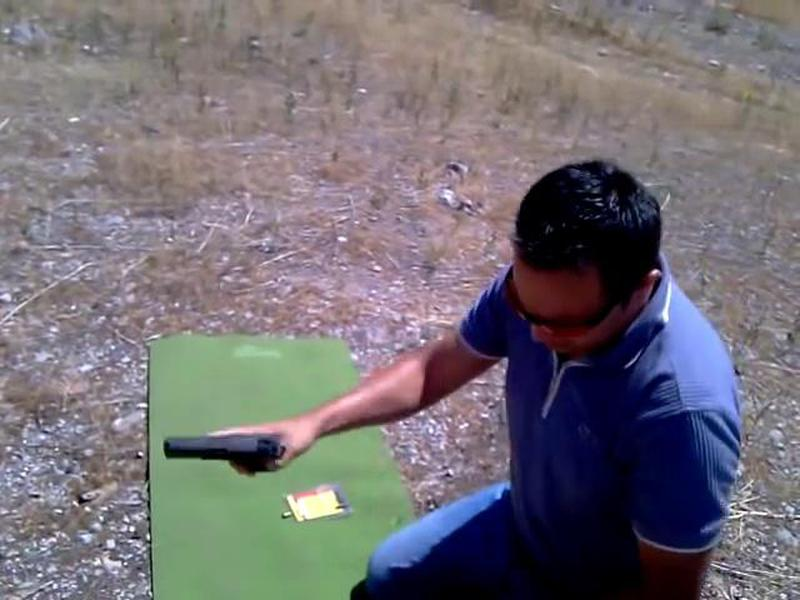Pistola: (157, 424, 304, 486)
